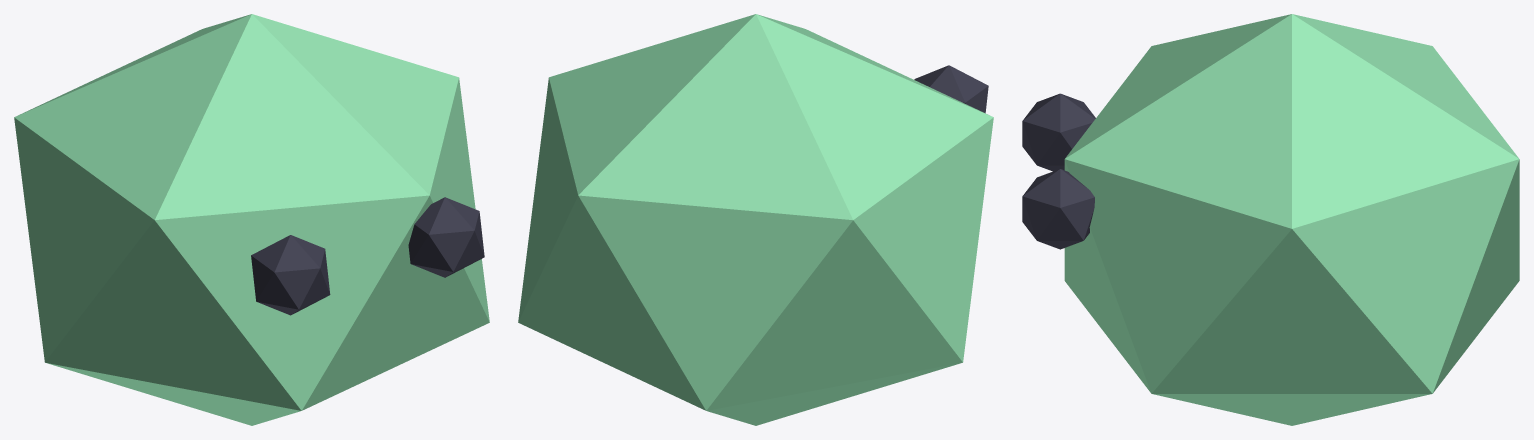
The model's file is enemy.glb.
3 renders of one model, left to right at view 1: azimuth 30°, elevation 25°; view 2: azimuth 150°, elevation 25°; view 3: azimuth 270°, elevation 25°, orthographic.
Visible parts, largest first — view 1: enemy; view 2: enemy; view 3: enemy.
Part boxes in pixels (x1,y1,x2,y2): enemy: (14,14,489,425); enemy: (518,14,993,425); enemy: (1022,14,1519,425).
Size of the model in its own units: 0.947 by 0.9 by 0.9842.
